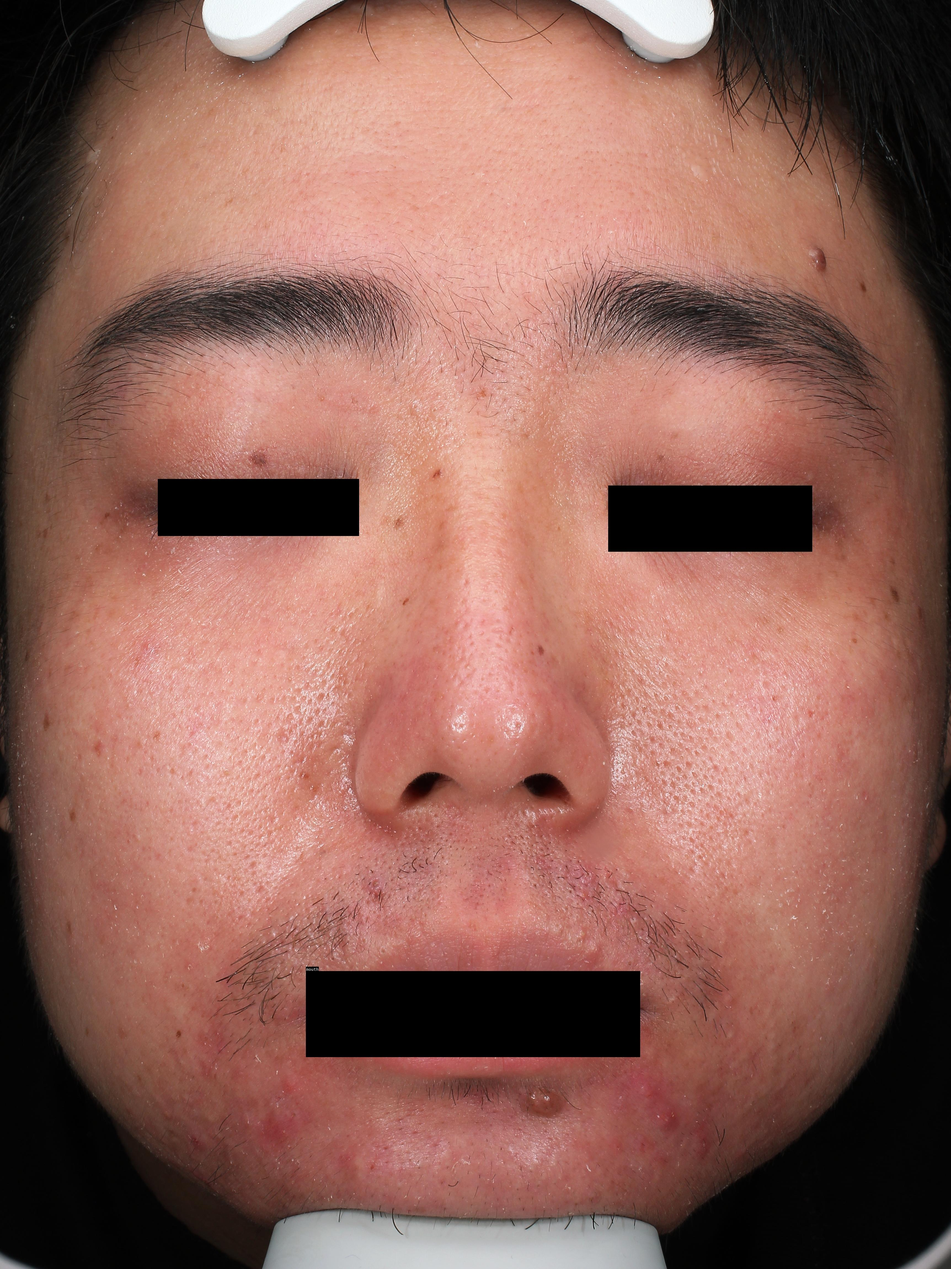atrophic_scar: (603, 868, 623, 892), (454, 614, 474, 632), (335, 930, 347, 959), (453, 641, 466, 663), (451, 670, 466, 688), (902, 632, 912, 652), (463, 651, 474, 669), (92, 740, 102, 759), (724, 730, 738, 743), (251, 771, 264, 784), (274, 733, 288, 745), (889, 633, 897, 654), (249, 124, 260, 138), (247, 858, 259, 870), (791, 712, 800, 728), (233, 798, 244, 810), (253, 884, 266, 894), (491, 626, 507, 634), (177, 747, 185, 761), (205, 796, 216, 806), (462, 575, 472, 586), (184, 843, 194, 854), (168, 767, 178, 777), (230, 813, 240, 823), (338, 625, 346, 636), (763, 680, 771, 690), (255, 693, 265, 701), (191, 818, 199, 828), (202, 753, 209, 763), (187, 769, 194, 779), (76, 753, 83, 763), (479, 618, 487, 626), (807, 709, 814, 718), (470, 667, 477, 675)
closed_comedo: (347, 1157, 364, 1180), (740, 1048, 751, 1063), (203, 1115, 217, 1124), (726, 1030, 736, 1041), (164, 1110, 174, 1120), (769, 1043, 777, 1055), (669, 995, 678, 1005), (132, 832, 142, 841), (725, 995, 733, 1005), (698, 667, 706, 675), (770, 1035, 779, 1041), (219, 374, 223, 379)
melasma: (833, 536, 849, 561), (669, 428, 685, 441), (436, 519, 450, 532), (442, 503, 459, 513), (867, 594, 877, 609), (851, 611, 864, 622), (99, 511, 110, 524), (883, 610, 894, 622), (93, 541, 105, 552), (655, 453, 666, 464), (851, 631, 859, 644), (776, 625, 787, 634)
nevus: (523, 1089, 564, 1116), (808, 246, 829, 272), (249, 452, 267, 467), (889, 587, 900, 603), (538, 643, 546, 657), (44, 715, 51, 731), (859, 281, 867, 294), (394, 517, 403, 528), (430, 471, 441, 480), (68, 810, 75, 821), (175, 1028, 182, 1039)
open_comedo: (409, 402, 421, 414), (378, 947, 389, 957), (179, 981, 188, 991), (223, 769, 231, 777), (415, 1164, 422, 1171)
other: (86, 146, 100, 162)
papule: (265, 1113, 298, 1142), (658, 1107, 681, 1131), (637, 1080, 655, 1100), (695, 1135, 710, 1159), (589, 939, 604, 963), (282, 1076, 300, 1095), (187, 1135, 207, 1151), (577, 927, 589, 944), (139, 641, 152, 652), (579, 888, 590, 900), (909, 747, 918, 761), (737, 1148, 749, 1158)
pustule: (371, 880, 379, 890)
